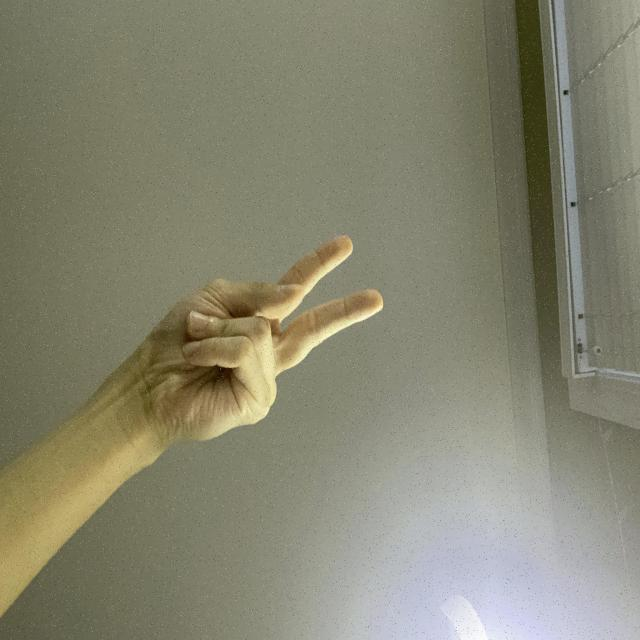K: (333, 337, 495, 640)
